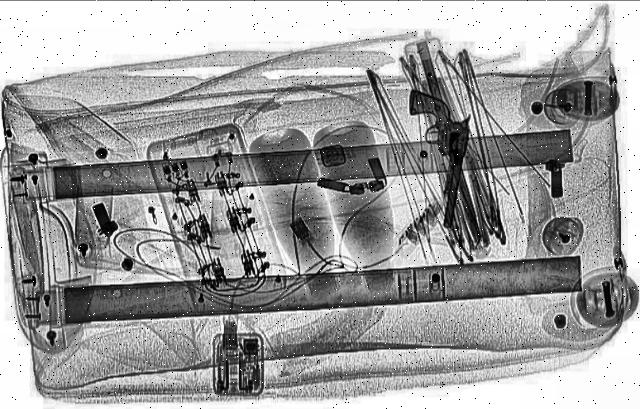Gun: (384, 92, 481, 229)
